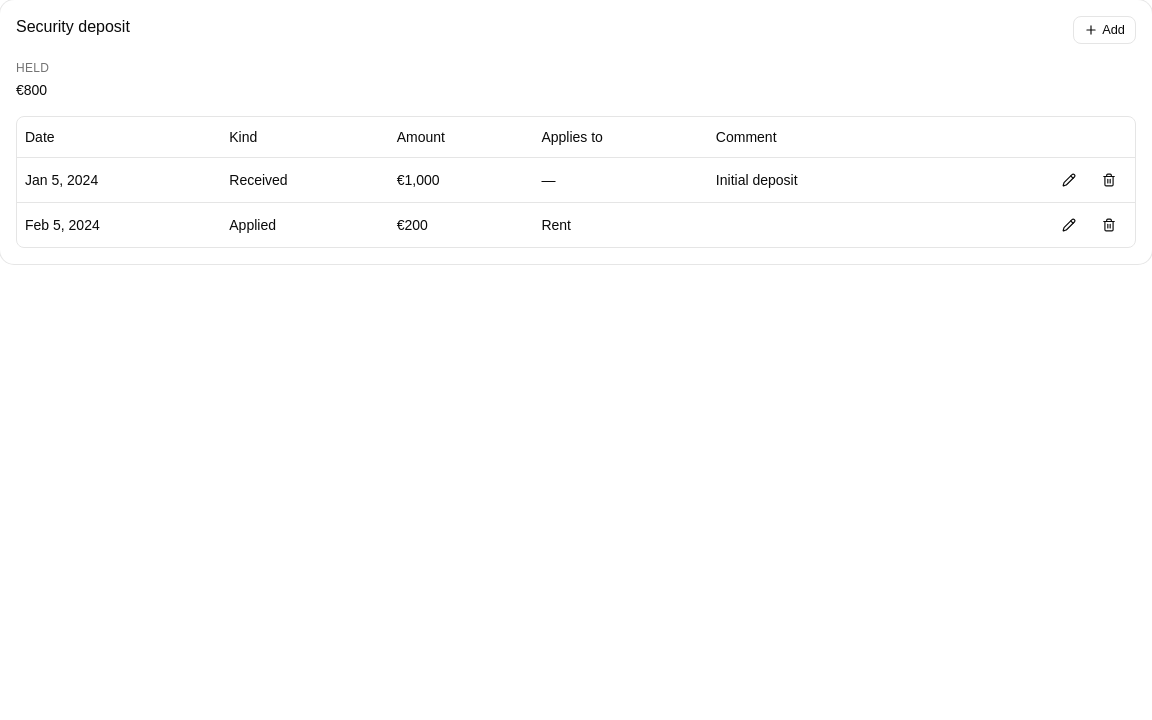
Test: SecurityDepositCard › opens the create dialog from Add
What coordinates should you click on to do the following:
click the button "Add"
I would click on:
 (1105, 30)
Its box is [1073,16,1136,44].
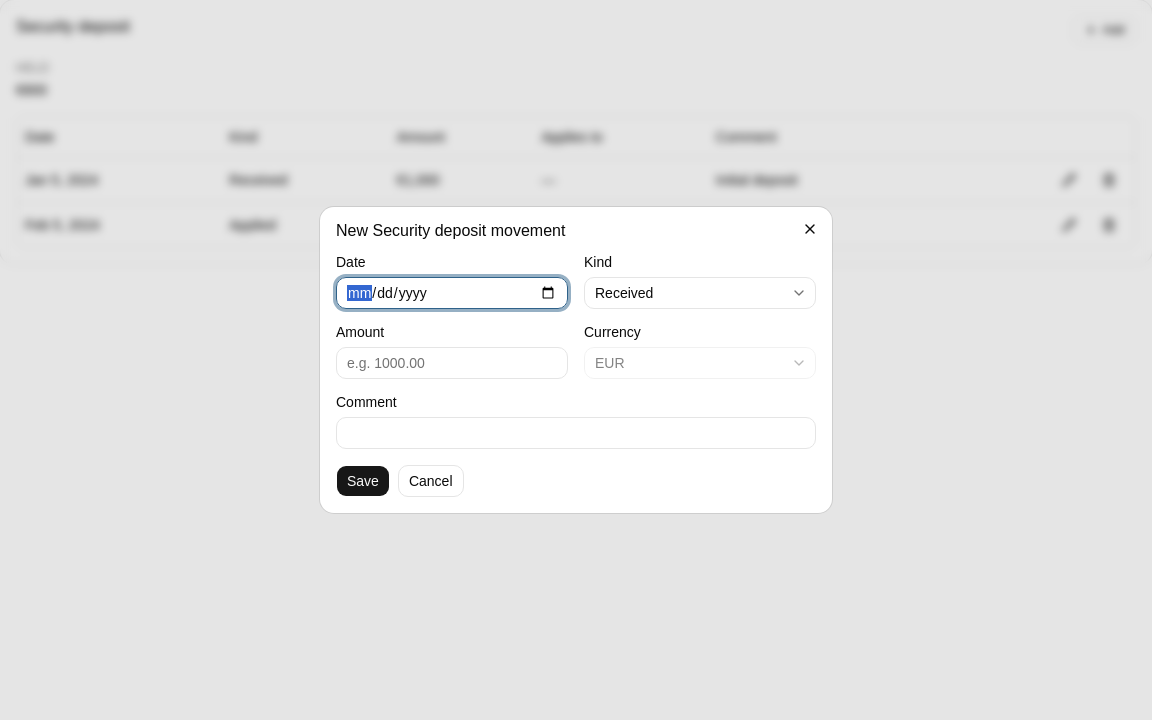
Check: the heading "New Security deposit movement" is shown, box [336,222,565,239]
